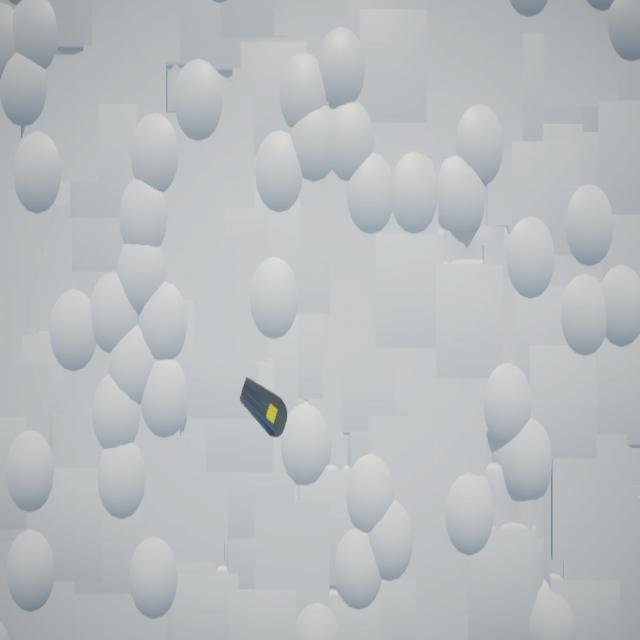handle_folk: (240, 378, 289, 438)
